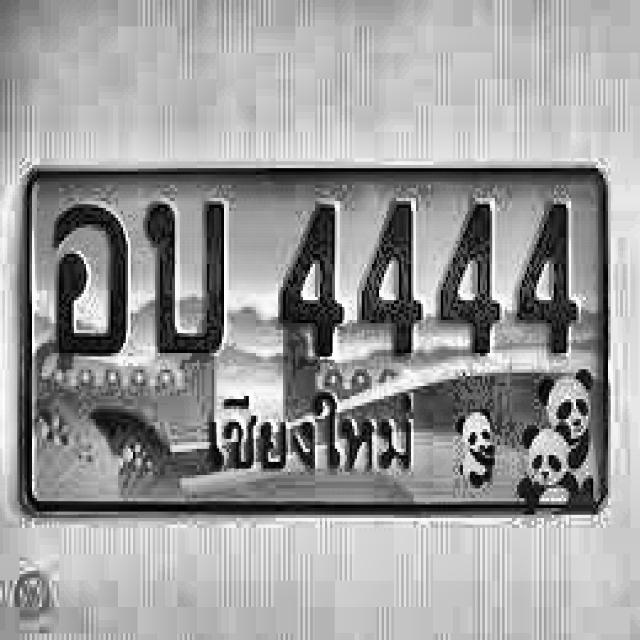license-plate: (22, 162, 609, 516)
